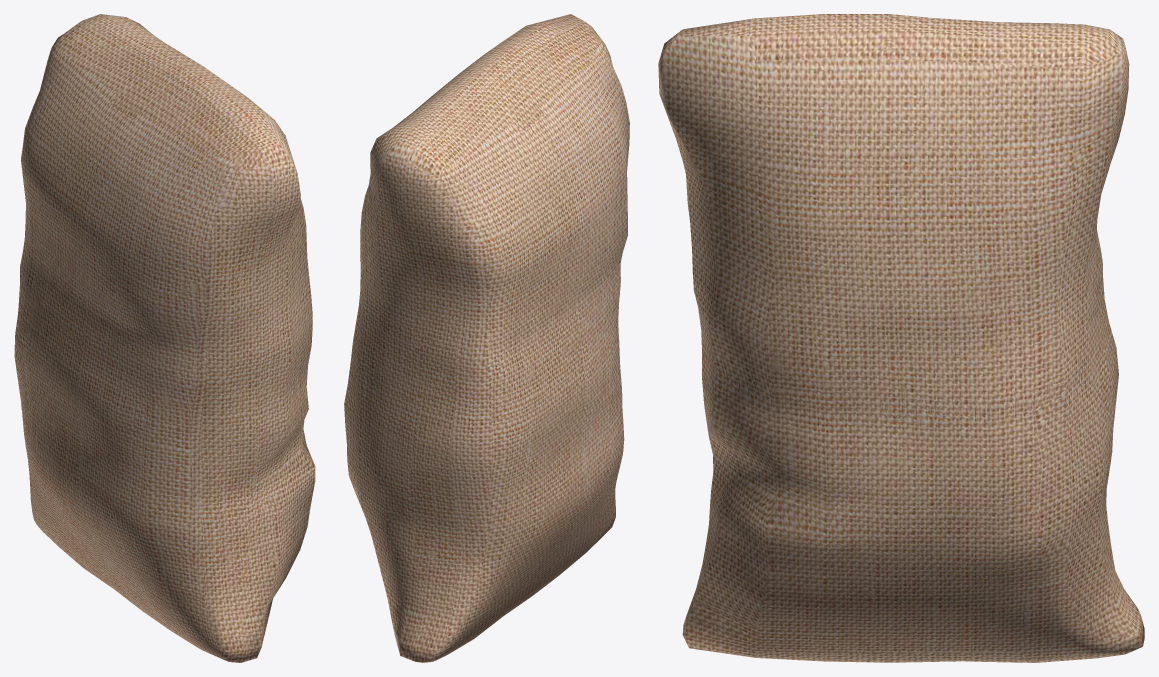
File: Sack.fbx
The picture shows the model from 3 angles, left to right: view 1: azimuth 30°, elevation 25°; view 2: azimuth 150°, elevation 25°; view 3: azimuth 270°, elevation 25°; orthographic projection. The views are drawn at different scales.
Parts seen in each view (by area): view 1: SandSack; view 2: SandSack; view 3: SandSack.
Part boxes in pixels (x1,y1,x2,y2): SandSack: [14, 14, 315, 662]; SandSack: [344, 14, 629, 662]; SandSack: [658, 14, 1144, 662].
Bounding box in the file's own units: 69.34 × 176 × 118.
